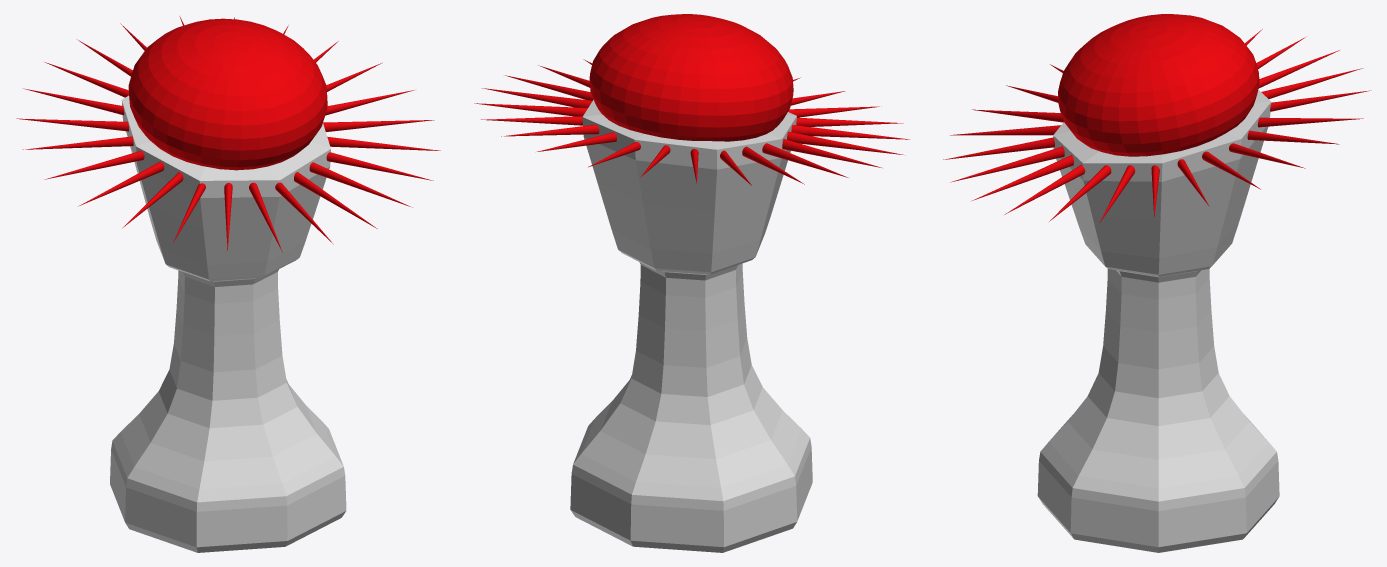
File: Chess_King.fbx
3 views of the same model, side by side, from view 1: azimuth 30°, elevation 25°; view 2: azimuth 150°, elevation 25°; view 3: azimuth 270°, elevation 25° (orthographic). The views are drawn at different scales.
Parts seen in each view (by area): view 1: Cube; view 2: Cube; view 3: Cube.
Part boxes in pixels (left/top/right/bottom): Cube: left=16, top=16, right=440, bottom=552; Cube: left=474, top=14, right=909, bottom=552; Cube: left=943, top=14, right=1371, bottom=552.
Size of the model in its own units: 167 by 201 by 165.
